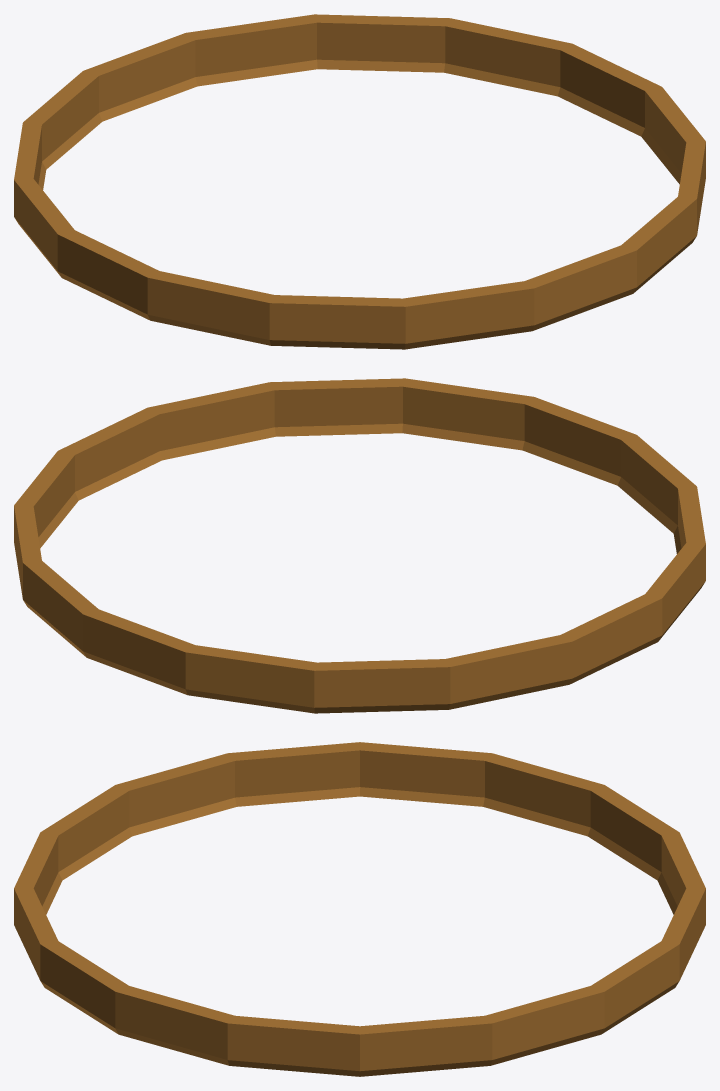
Rendered from helpfulhelmet.glb.
The picture shows the model from 3 angles, top to bottom: view 1: azimuth 30°, elevation 25°; view 2: azimuth 150°, elevation 25°; view 3: azimuth 270°, elevation 25°; orthographic projection.
Visible parts, largest first — view 1: HelpfulHelmet; view 2: HelpfulHelmet; view 3: HelpfulHelmet.
Boxes of the visible parts, x1,y1,x2,y2 form: HelpfulHelmet: [14, 14, 705, 349]; HelpfulHelmet: [14, 378, 705, 713]; HelpfulHelmet: [14, 742, 705, 1076].
Size of the model in its own units: 0.7203 by 0.0509 by 0.7203.
Materials: 1 (1 with a texture image).
